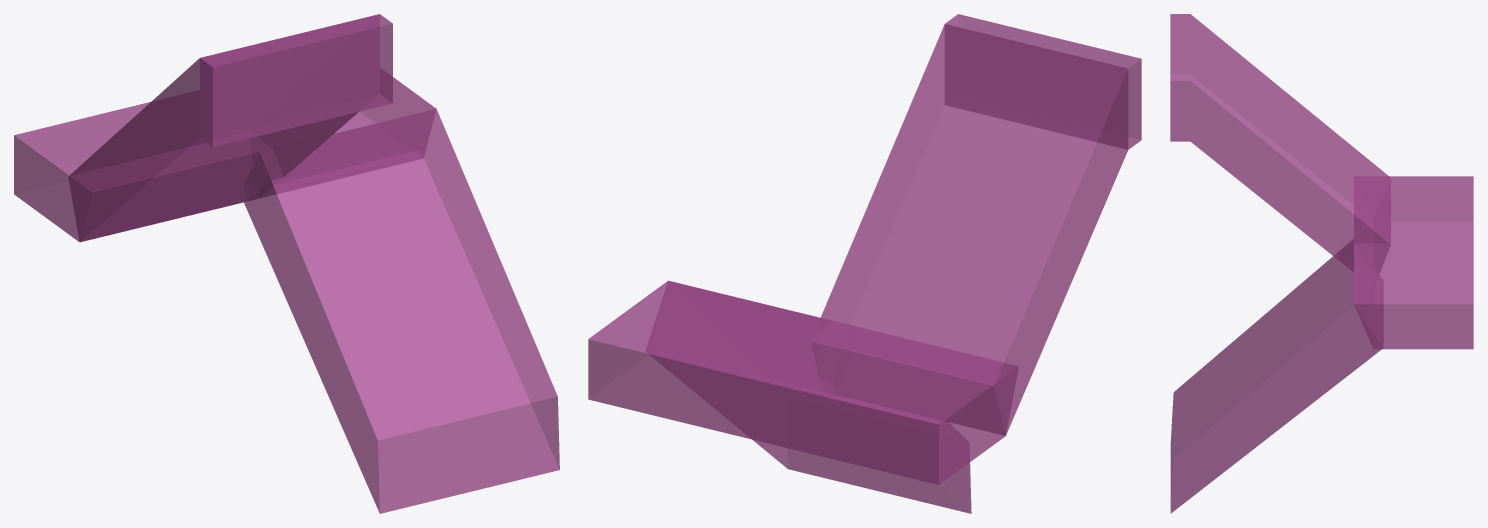
File: SM_Bld_Base_Staris_02_Collision.fbx
3 views of the same model, side by side, from view 1: azimuth 30°, elevation 25°; view 2: azimuth 150°, elevation 25°; view 3: azimuth 270°, elevation 25° (orthographic). The views are drawn at different scales.
Parts seen in each view (by area): view 1: SM_Bld_Base_Staris_02_Collision; view 2: SM_Bld_Base_Staris_02_Collision; view 3: SM_Bld_Base_Staris_02_Collision.
Boxes of the visible parts, left/top/right/bottom form: SM_Bld_Base_Staris_02_Collision: left=14, top=14, right=559, bottom=513; SM_Bld_Base_Staris_02_Collision: left=588, top=14, right=1141, bottom=513; SM_Bld_Base_Staris_02_Collision: left=1170, top=14, right=1473, bottom=513.
Size of the model in its own units: 261 by 350 by 259.
